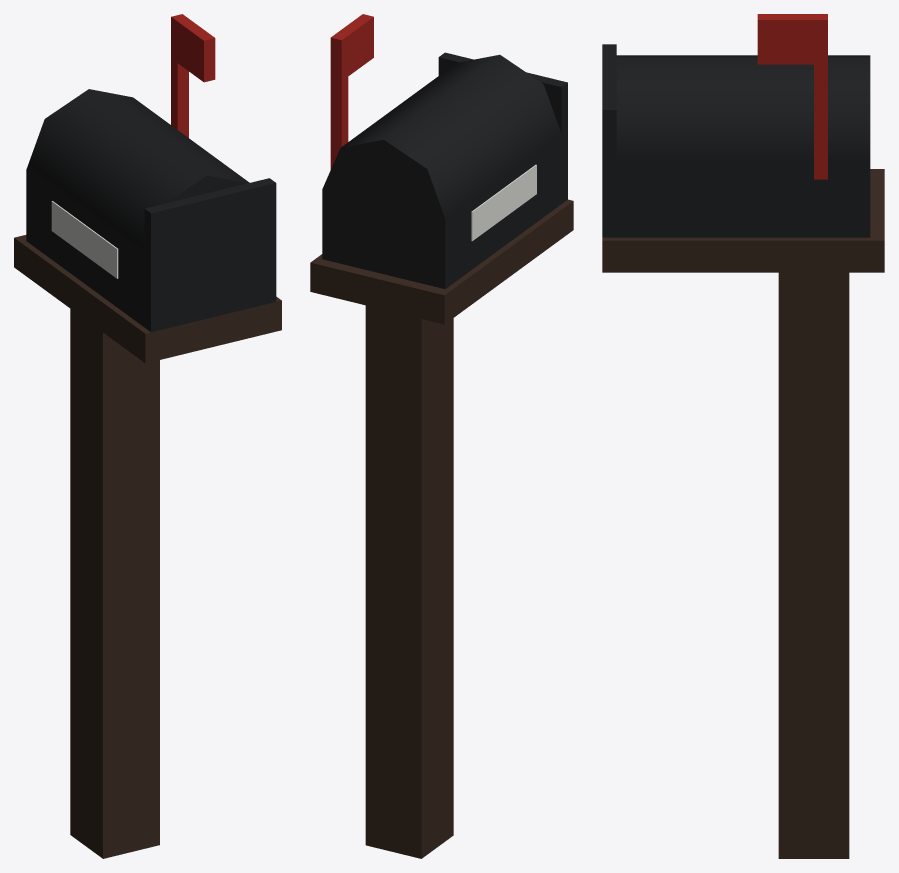
The model's file is mailbox_post.glb.
The picture shows the model from 3 angles, left to right: view 1: azimuth 30°, elevation 25°; view 2: azimuth 150°, elevation 25°; view 3: azimuth 270°, elevation 25°; orthographic projection. The views are drawn at different scales.
Visible parts, largest first — view 1: mailbox_post; view 2: mailbox_post; view 3: mailbox_post.
Boxes of the visible parts, left/top/right/bottom form: mailbox_post: left=14, top=14, right=281, bottom=858; mailbox_post: left=310, top=14, right=573, bottom=858; mailbox_post: left=602, top=14, right=884, bottom=858.
Bounding box in the file's own units: 0.25 × 1.35 × 0.4.
Materials: 1 (1 with a texture image).
